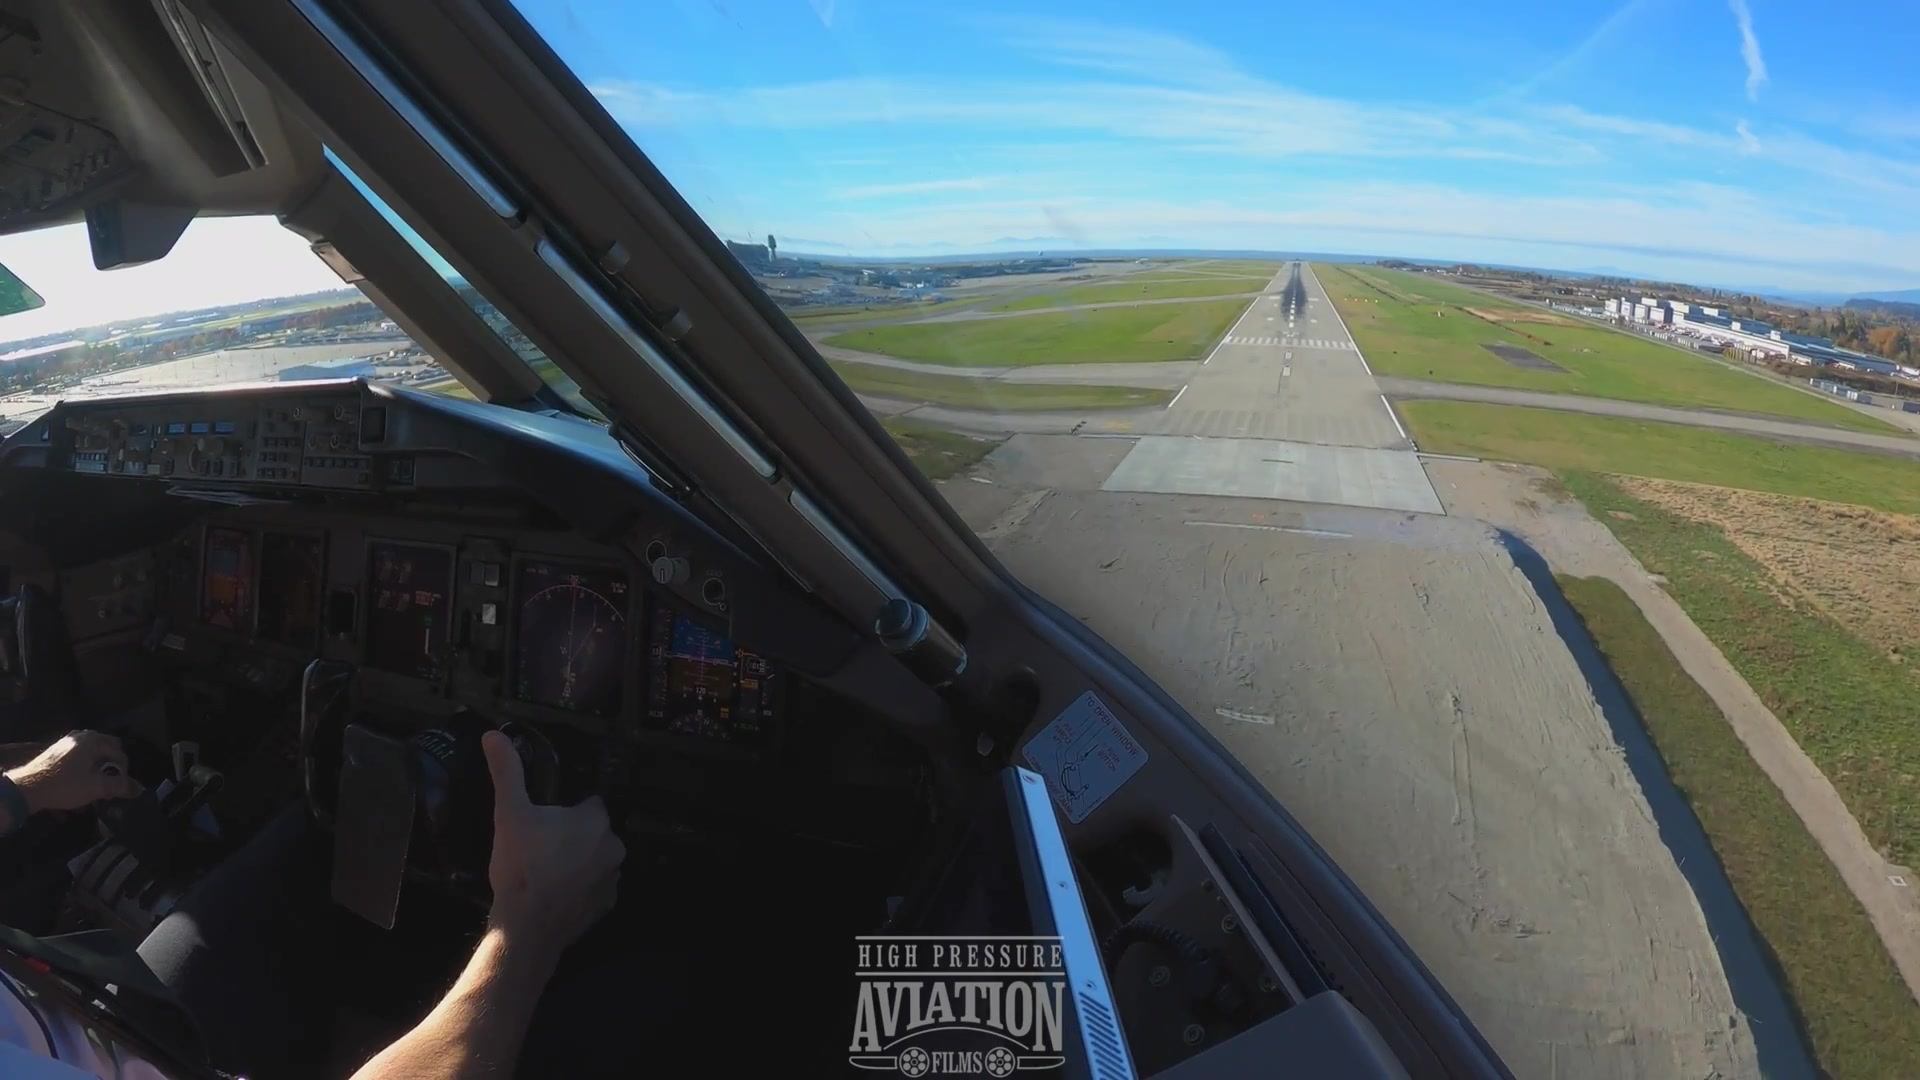entrance: (1221, 334, 1364, 351)
runway: (1151, 262, 1406, 438)
